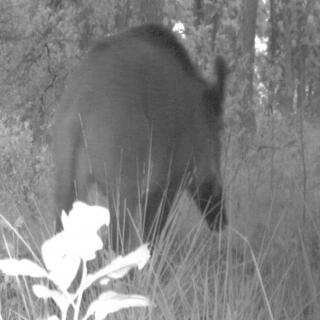Pig: (46, 0, 232, 272)
